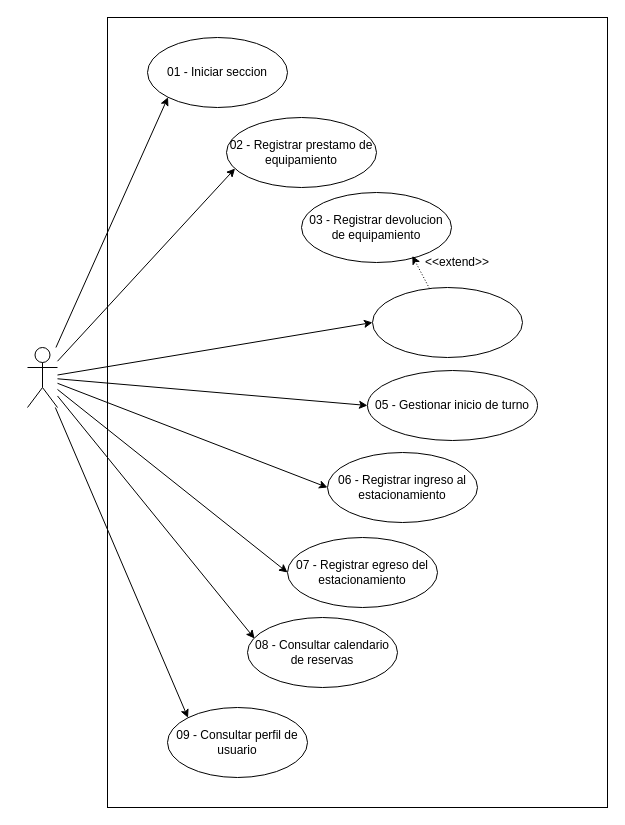
Some shapes in this 625 by 825 pixel diagram are drawn without their labels. Each missing label, with the box of its shape:
04 - Registrar daños en equipamiento: (372, 286, 522, 358)
Operador: (26, 346, 58, 408)
